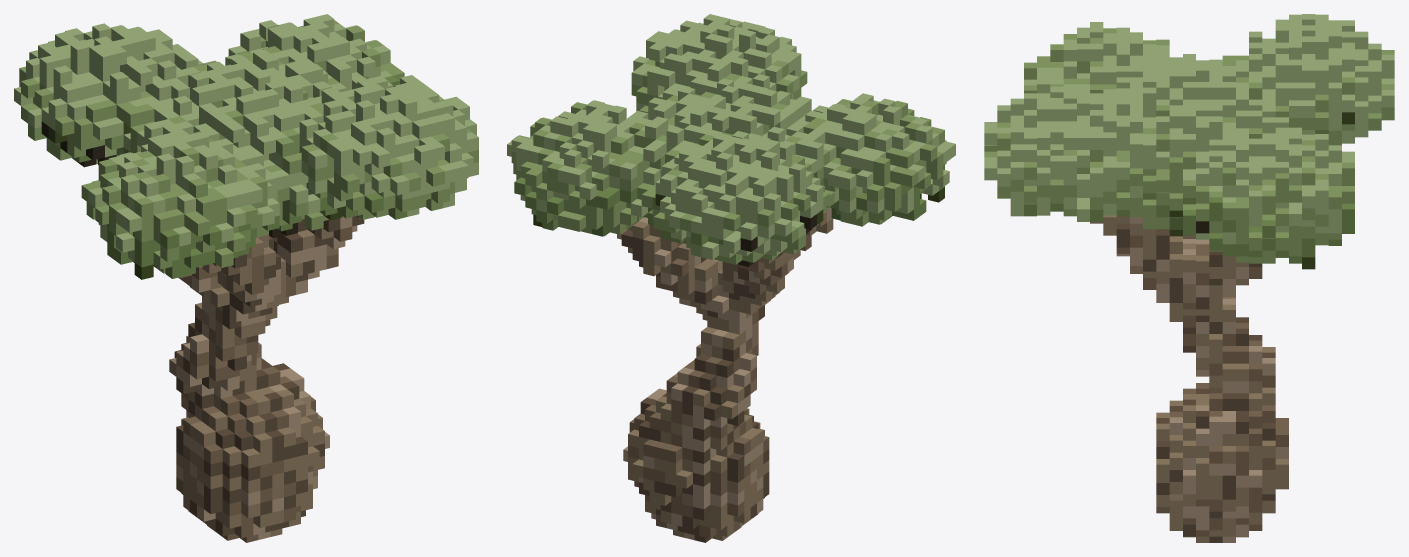
Rendered from arbre-olivier.glb.
The picture shows the model from 3 angles, left to right: view 1: azimuth 30°, elevation 25°; view 2: azimuth 150°, elevation 25°; view 3: azimuth 270°, elevation 25°; orthographic projection. The views are drawn at different scales.
Parts seen in each view (by area): view 1: arbre-olivier; view 2: arbre-olivier; view 3: arbre-olivier.
Boxes of the visible parts, x1,y1,x2,y2 form: arbre-olivier: (14, 14, 478, 542); arbre-olivier: (507, 14, 955, 542); arbre-olivier: (984, 14, 1394, 542).
Bounding box in the file's own units: 3.88 × 4.75 × 3.88.
